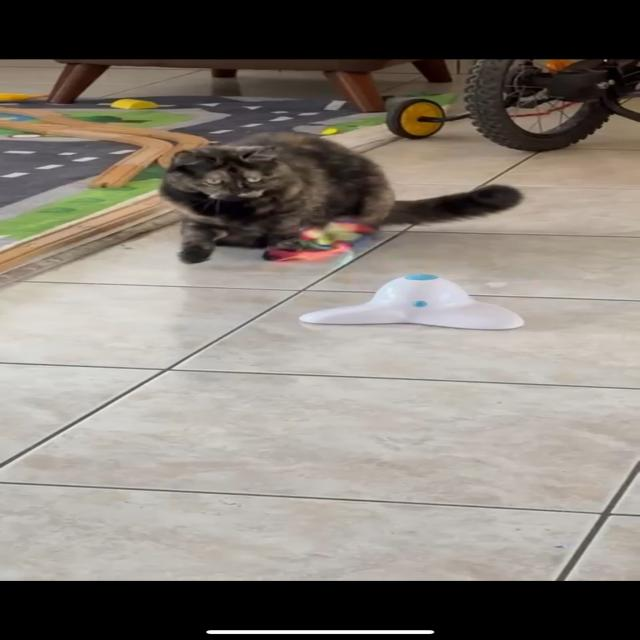authorized: (158, 130, 523, 264)
